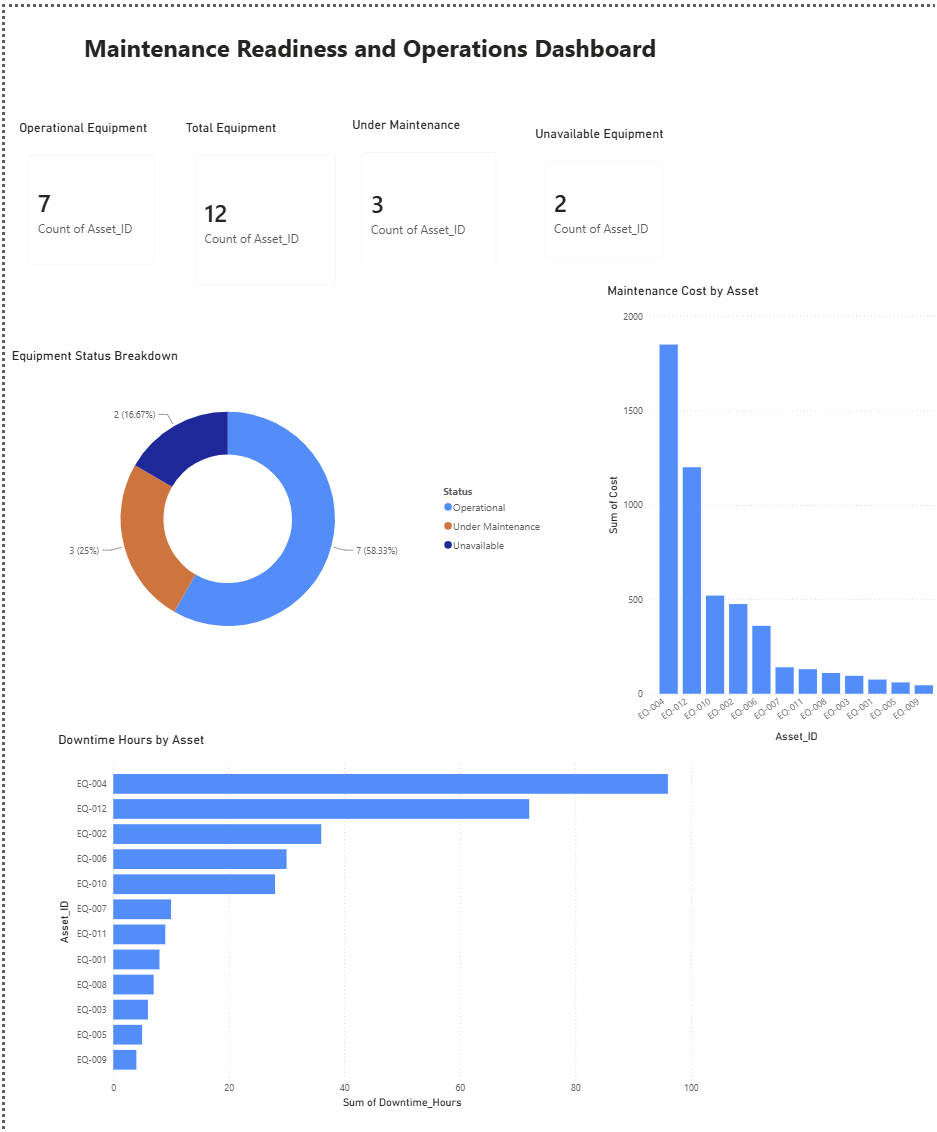

The page's visual inventory and layout, read from the dashboard file:
{"tool":"powerbi","page":{"name":"Page 1","canvas":[1287,1500],"ordinal":0},"visuals":[{"type":"cardVisual","title":"Operational Equipment","fields":{"Data":["CountNonNull(EquipmentTable.Asset_ID)"]},"box":[14,150,202,212],"z":0},{"type":"cardVisual","title":"Total Equipment","fields":{"Data":["CountNonNull(EquipmentTable.Asset_ID)"]},"box":[236,150,222,238],"z":1000},{"type":"cardVisual","title":"Under Maintenance","fields":{"Data":["CountNonNull(EquipmentTable.Asset_ID)"]},"box":[458,146,214,222],"z":2000},{"type":"cardVisual","title":"Unavailable Equipment","fields":{"Data":["CountNonNull(EquipmentTable.Asset_ID)"]},"box":[702,158,193,195],"z":3000},{"type":"donutChart","title":"Equipment Status Breakdown","fields":{"Category":["EquipmentTable.Status"],"Y":["CountNonNull(EquipmentTable.Asset_ID)"]},"box":[3.3,453.3,723.3,426.7],"z":3001},{"type":"clusteredColumnChart","title":"Maintenance Cost by Asset","fields":{"Category":["MaintenanceTable.Asset_ID"],"Y":["Sum(MaintenanceTable.Cost)"]},"box":[798,368,456.7,616.7],"z":3002},{"type":"clusteredBarChart","title":"Downtime Hours by Asset","fields":{"Category":["DowntimeTable.Asset_ID"],"Y":["Sum(DowntimeTable.Downtime_Hours)"]},"box":[66.7,966.7,863.3,506.7],"z":3003},{"type":"textbox","box":[100,26,1048,70],"z":3004}]}

Visuals, with their boxes on the page's 1287x1500 design canvas (x1, y1, x2, y2). These are canvas units, not pixel positions in the 937x1132 screenshot, which may show the page scaled, cropped or inside an application window:
"Operational Equipment" cardVisual: [left=14, top=150, right=216, bottom=362]
"Total Equipment" cardVisual: [left=236, top=150, right=458, bottom=388]
"Under Maintenance" cardVisual: [left=458, top=146, right=672, bottom=368]
"Unavailable Equipment" cardVisual: [left=702, top=158, right=895, bottom=353]
"Equipment Status Breakdown" donutChart: [left=3, top=453, right=727, bottom=880]
"Maintenance Cost by Asset" clusteredColumnChart: [left=798, top=368, right=1255, bottom=985]
"Downtime Hours by Asset" clusteredBarChart: [left=67, top=967, right=930, bottom=1473]
textbox: [left=100, top=26, right=1148, bottom=96]
